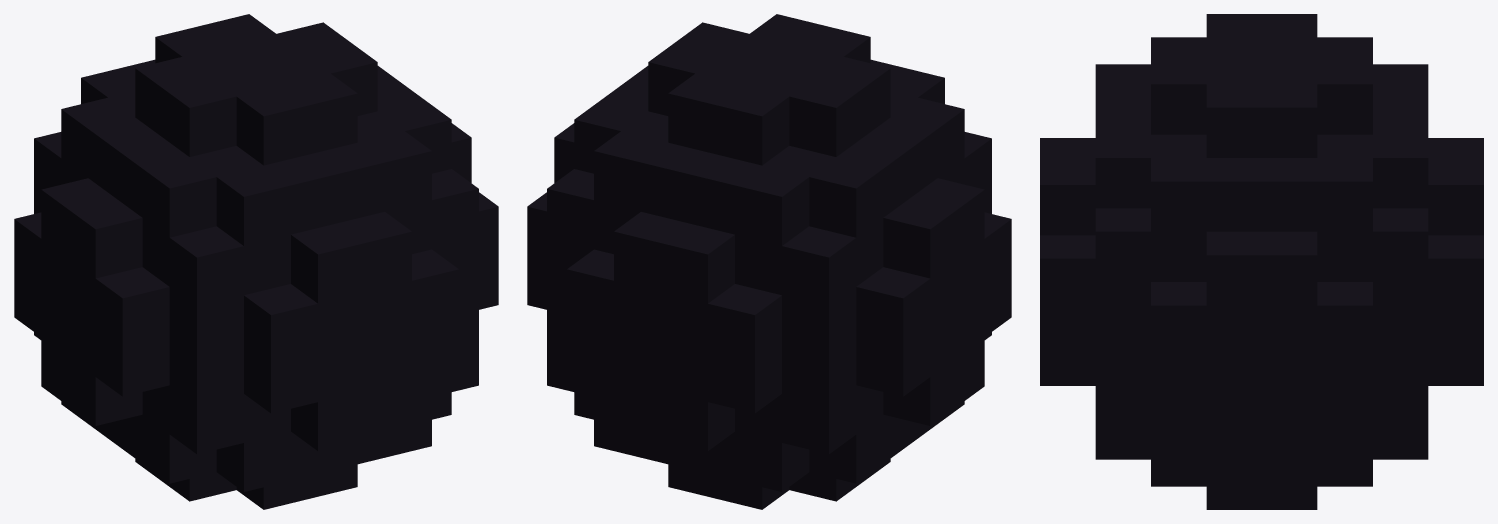
Rendered from BombMini.obj.
3 views of the same model, side by side, from view 1: azimuth 30°, elevation 25°; view 2: azimuth 150°, elevation 25°; view 3: azimuth 270°, elevation 25° (orthographic). The views are drawn at different scales.
Size of the model in its own units: 0.8 by 0.8 by 0.8.
Materials: 1 (1 with a texture image).
